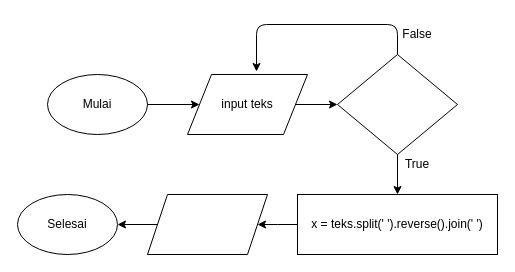
The diagram is 515 pixels wide and 272 high, and some of its shapes have lost their labels. Here are the shapes that lost their labels. From the top down, the centre of each, then its label:
At pixel 397 104: "teks = string".
At pixel 207 224: "Output x".
